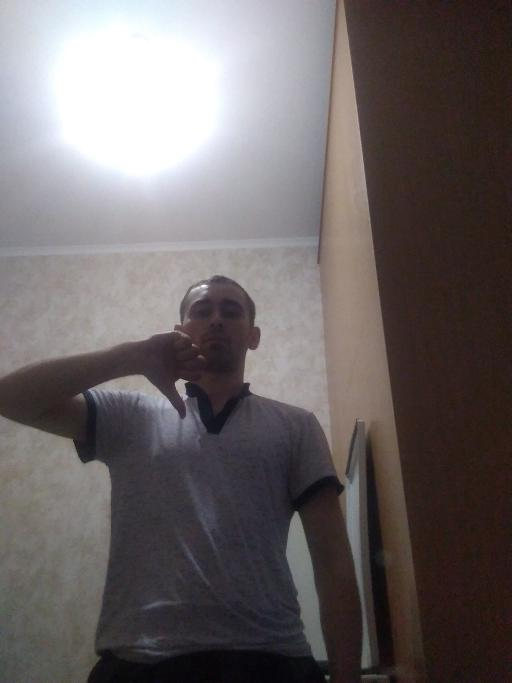dislike: (140, 328, 208, 421)
